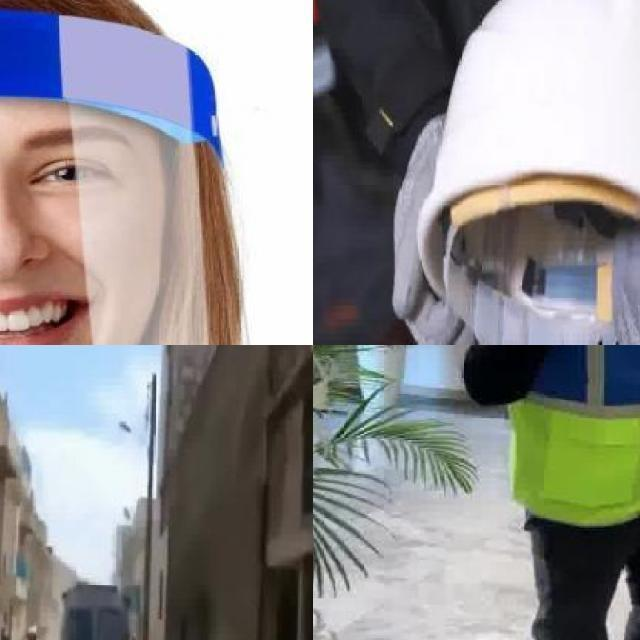apron: (393, 110, 505, 345)
